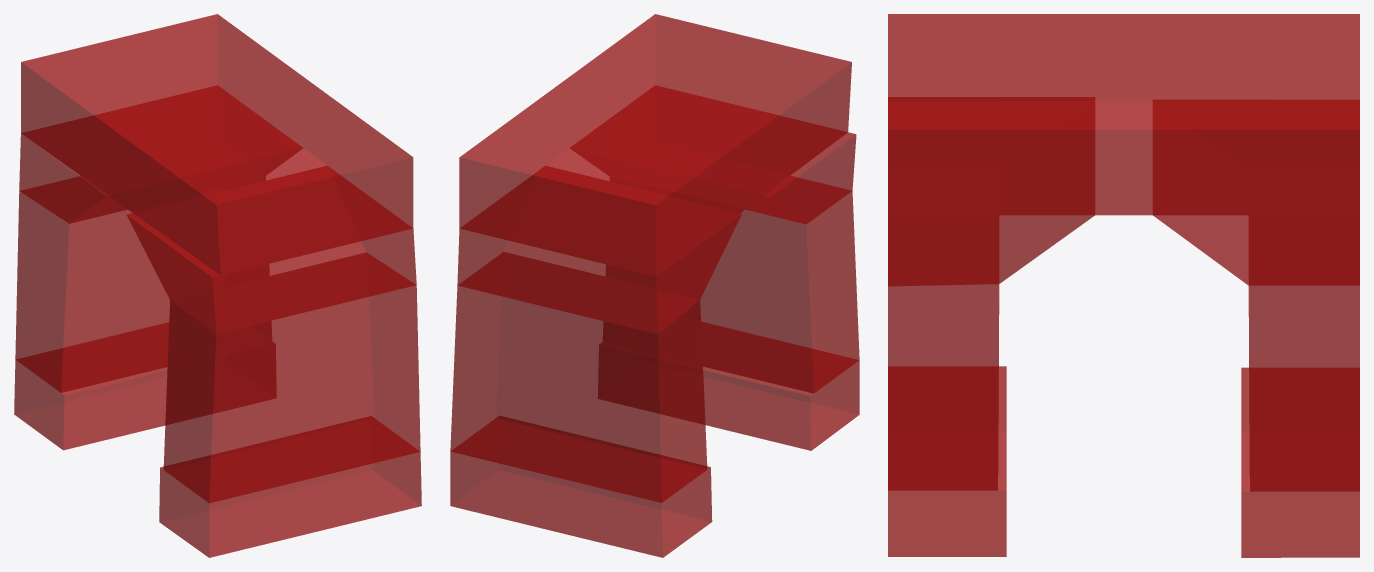
Rendered from SM_Env_Dwarf_Bridge_01_Collision.fbx.
3 views of the same model, side by side, from view 1: azimuth 30°, elevation 25°; view 2: azimuth 150°, elevation 25°; view 3: azimuth 270°, elevation 25° (orthographic). The views are drawn at different scales.
Visible parts, largest first — view 1: SM_Env_Dwarf_Bridge_01_Collision; view 2: SM_Env_Dwarf_Bridge_01_Collision; view 3: SM_Env_Dwarf_Bridge_01_Collision.
Part boxes in pixels (x1,y1,x2,y2): SM_Env_Dwarf_Bridge_01_Collision: (14, 14, 421, 557); SM_Env_Dwarf_Bridge_01_Collision: (450, 14, 859, 557); SM_Env_Dwarf_Bridge_01_Collision: (888, 14, 1359, 557).
Bounding box in the file's own units: 634 × 988 × 1000.
